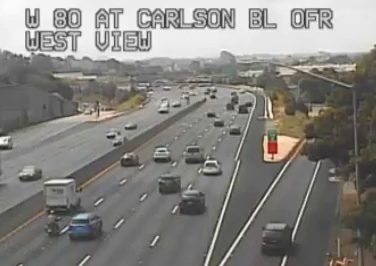car: (261, 223, 291, 252), (69, 214, 102, 237), (179, 190, 204, 213), (157, 175, 180, 192), (183, 146, 202, 163), (203, 160, 221, 174), (120, 152, 138, 166), (153, 147, 170, 160), (229, 126, 240, 134)
motorcycle: (45, 210, 61, 236)
small-truck: (44, 179, 81, 210)
